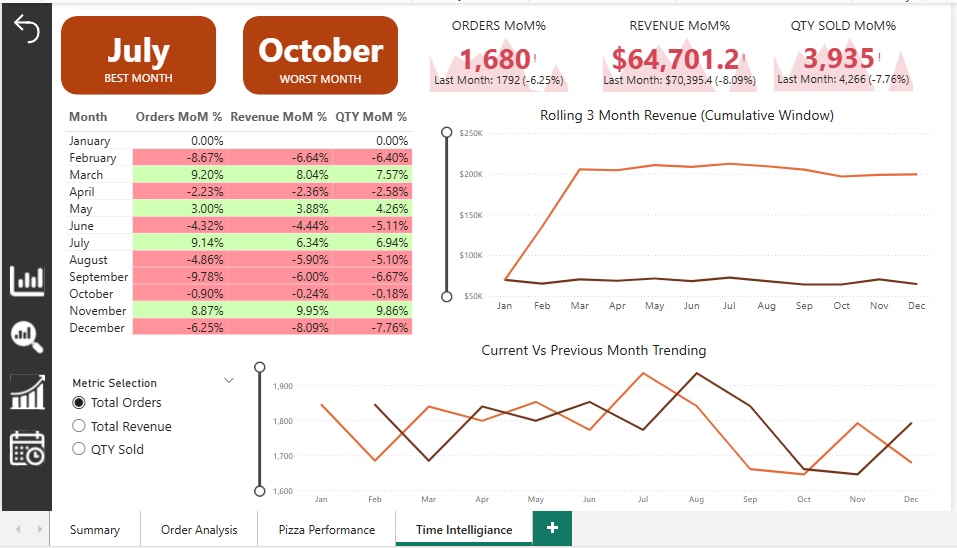

The dashboard page shown, as its layout file describes it:
{"tool":"powerbi","page":{"name":"Time Intelligiance","canvas":[1345,720],"ordinal":3},"visuals":[{"type":"shape","box":[0,0,70.9,720.2],"z":0},{"type":"kpi","title":"ORDERS MoM%","fields":{"Goal":["Measures Table.Previous Month Orders"],"TrendLine":["Date.Start of Month"],"Indicator":["Measures Table.Total Orders 2"]},"box":[601.1,18.6,206.8,113.1],"z":1000},{"type":"kpi","title":"REVENUE MoM%","fields":{"TrendLine":["Date.Start of Month"],"Indicator":["Measures Table.Total Revenue"],"Goal":["Measures Table.Previous Month Revenue"]},"box":[846.6,18.2,229.1,113.1],"z":2000},{"type":"kpi","title":"QTY SOLD MoM%","fields":{"TrendLine":["Date.Start of Month"],"Goal":["Measures Table.Previous Month Qty"],"Indicator":["Measures Table.QTY Sold 2"]},"box":[1088.5,18.4,208.3,112],"z":3000},{"type":"tableEx","fields":{"Values":["Date.Date.Variation.Date Hierarchy.Month","Measures Table.Orders MoM %","Measures Table.Revenue MoM %","Measures Table.QTY MoM %"]},"box":[83.6,143.1,517.3,333.1],"z":4000},{"type":"lineChart","title":"Current Vs Previous Month Trending","fields":{"Y":["Measures Table.Total Orders 2","Measures Table.Previous Month Dynamic"],"Category":["Date.Short Month Name"]},"box":[354.1,475.7,969.6,244.7],"z":5000},{"type":"slicer","fields":{"Values":["Current Metric.Current Metric"]},"box":[87,523.2,255.1,160.9],"z":6000},{"type":"lineChart","title":"Rolling 3 Month Revenue (Cumulative Window)","fields":{"Y":["Measures Table.Total Revenue","Measures Table.3 Months Rolling Revenue"],"Category":["Date.Short Month Name"]},"box":[619.4,143.1,703,306.1],"z":7000},{"type":"shape","box":[83.7,19.1,220.3,111.6],"z":8000},{"type":"card","fields":{"Values":["Min(Date.Month Name)"]},"box":[83.7,19.1,220.3,111.6],"z":9000},{"type":"shape","box":[342.1,19.1,220.3,111.6],"z":10000},{"type":"card","fields":{"Values":["Min(Date.Month Name)"]},"box":[342.1,19.1,220.3,113.1],"z":11000},{"type":"actionButton","box":[7.5,444.8,64.6,57.1],"z":12000},{"type":"actionButton","box":[0,523.5,72.1,57.1],"z":13000},{"type":"actionButton","box":[7.5,602.1,63.1,57.1],"z":14000},{"type":"actionButton","box":[7.5,366.2,63.1,57.1],"z":15000},{"type":"actionButton","box":[8.7,8.7,53.5,56.4],"z":16000}]}

Visuals, with their boxes on the page's 1345x720 design canvas (x1, y1, x2, y2). These are canvas units, not pixel positions in the 957x548 screenshot, which may show the page scaled, cropped or inside an application window:
shape: region(0, 0, 71, 720)
"ORDERS MoM%" kpi: region(601, 19, 808, 132)
"REVENUE MoM%" kpi: region(847, 18, 1076, 131)
"QTY SOLD MoM%" kpi: region(1088, 18, 1297, 130)
tableEx - Date.Date.Variation.Date Hierarchy.Month x Measures Table.Orders MoM %: region(84, 143, 601, 476)
"Current Vs Previous Month Trending" lineChart: region(354, 476, 1324, 720)
slicer - Current Metric.Current Metric: region(87, 523, 342, 684)
"Rolling 3 Month Revenue (Cumulative Window)" lineChart: region(619, 143, 1322, 449)
shape: region(84, 19, 304, 131)
card - Min(Date.Month Name): region(84, 19, 304, 131)
shape: region(342, 19, 562, 131)
card - Min(Date.Month Name): region(342, 19, 562, 132)
actionButton: region(8, 445, 72, 502)
actionButton: region(0, 524, 72, 581)
actionButton: region(8, 602, 71, 659)
actionButton: region(8, 366, 71, 423)
actionButton: region(9, 9, 62, 65)
